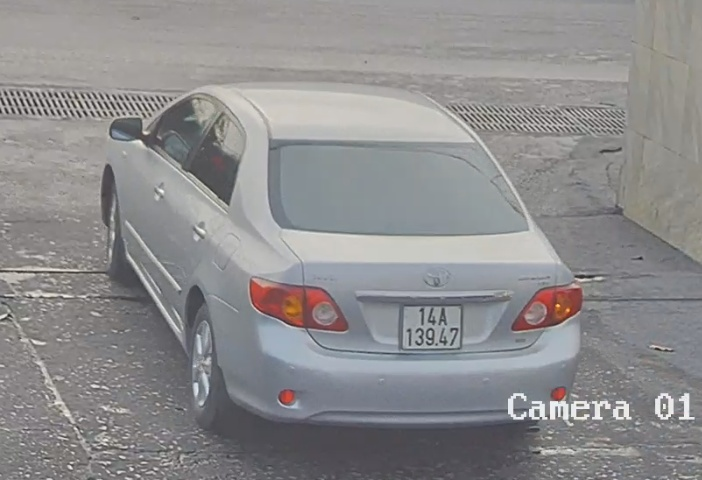vehicle plate: (400, 301, 468, 354)
